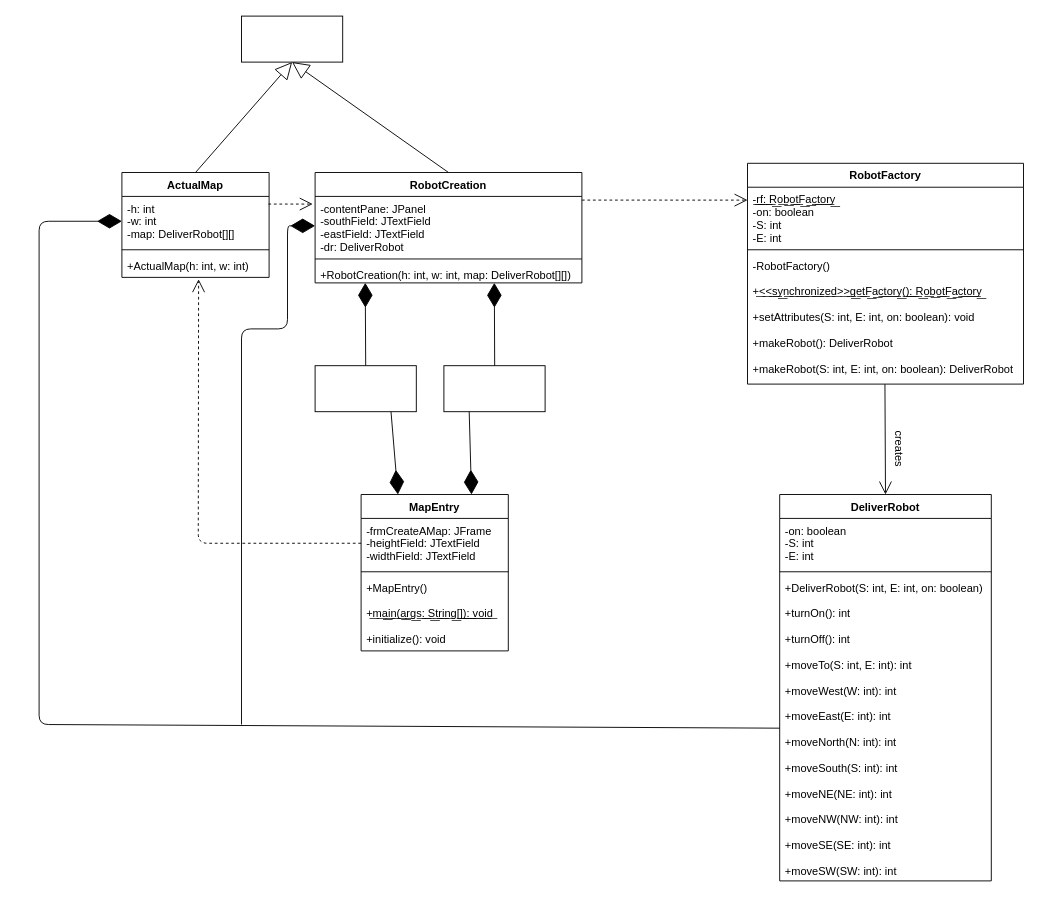
Image size: 1040x900. Some labels were removed from this diagram. Here are the shapes that lost their labels. From the top down, the centre of each, then its label:
the point at 292,38: JFrame
the point at 365,388: JPanel
the point at 494,388: JTextField
